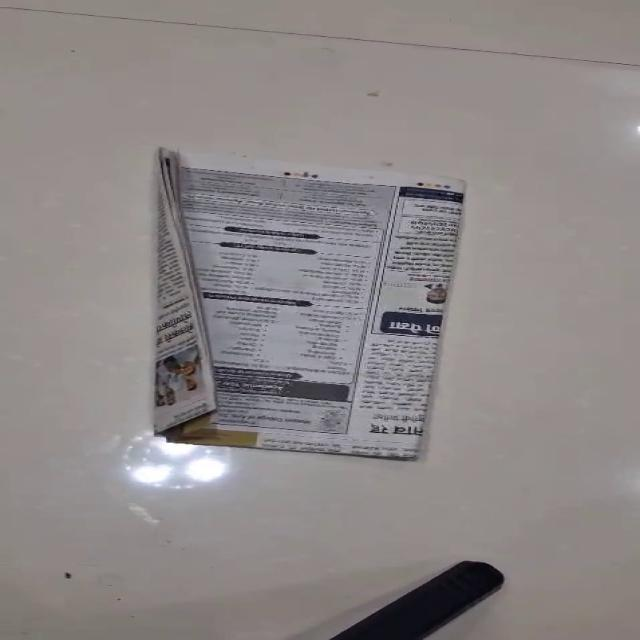paper: (153, 146, 467, 461)
